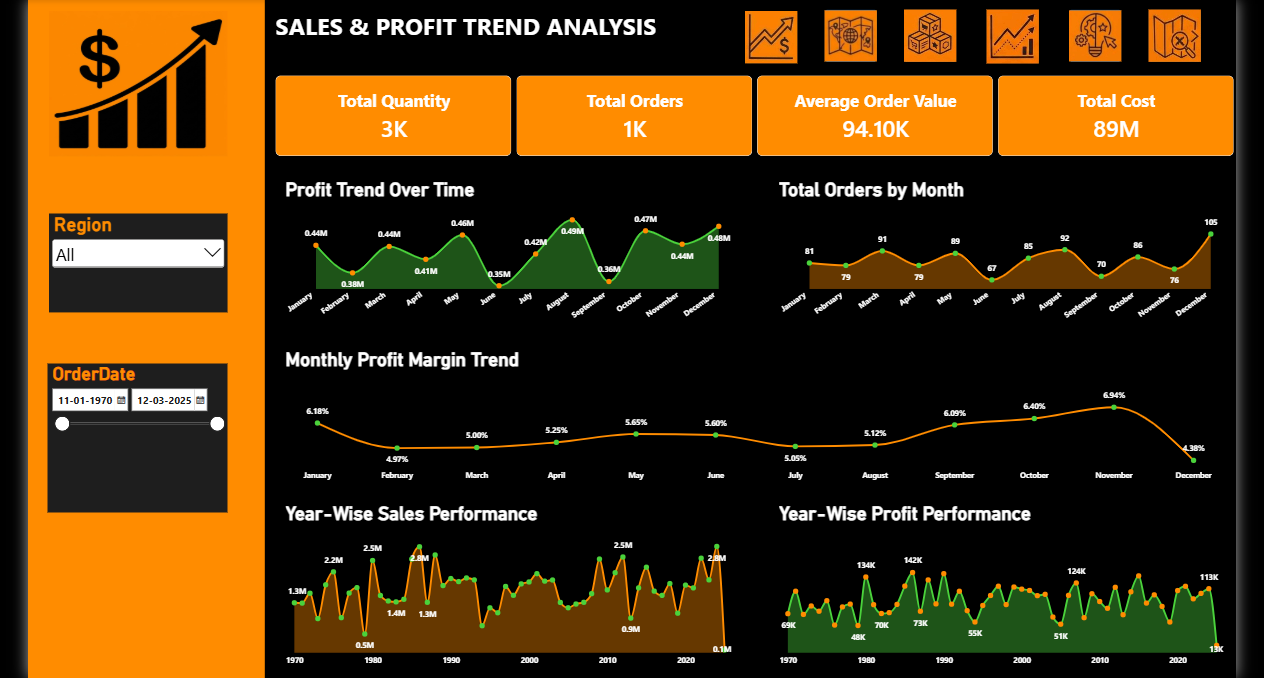

What the dashboard file says about the page in this screenshot:
{"tool":"powerbi","page":{"name":"Sales & Profit Trend Analysis","canvas":[1920,1080],"ordinal":4},"visuals":[{"type":"shape","box":[0,0,377,1080.8],"z":0},{"type":"textbox","box":[393.7,16.7,627.5,107.4],"z":1000},{"type":"cardVisual","fields":{"Data":["Measure  Table.Total Quantity","Measure  Table.Total Orders","Measure  Table.Average Order Value","Measure  Table.Total Cost"]},"box":[393,121.7,1527,128.8],"z":2000},{"type":"lineChart","title":"Profit Trend Over Time","fields":{"Y":["Measure  Table.Total Profit"],"Category":["SalesData_1000Rows_WithIssues_copy.OrderDate.Variation.Date Hierarchy.Month"]},"box":[393.7,272,744.4,267.2],"z":3000},{"type":"lineChart","fields":{"Y":["Measure  Table.Total Orders"],"Category":["SalesData_1000Rows_WithIssues_copy.OrderDate.Variation.Date Hierarchy.Month"]},"box":[1178.6,272,742,267.2],"z":4000},{"type":"lineChart","title":"Monthly Profit Margin Trend","fields":{"Y":["Measure  Table.Profit Margin %"],"Category":["SalesData_1000Rows_WithIssues_copy.OrderDate.Variation.Date Hierarchy.Month"]},"box":[393.7,541.6,1527,245.7],"z":5000},{"type":"lineChart","title":" Year-Wise Sales Performance","fields":{"Category":["SalesData_1000Rows_WithIssues_copy.OrderDate.Variation.Date Hierarchy.Year"],"Y":["Measure  Table.Total sales"]},"box":[393.7,787.4,744.4,293.5],"z":6000},{"type":"lineChart","title":"Year-Wise Profit Performance","fields":{"Category":["SalesData_1000Rows_WithIssues_copy.OrderDate.Variation.Date Hierarchy.Year"],"Y":["Measure  Table.Total Profit"]},"box":[1178.6,787.4,742,293.5],"z":7000},{"type":"slicer","fields":{"Values":["SalesData_1000Rows_WithIssues_copy.Region"]},"box":[33.4,341.2,283.9,157.5],"z":8000},{"type":"slicer","fields":{"Values":["SalesData_1000Rows_WithIssues_copy.OrderDate"]},"box":[31,579.8,286.3,236.2],"z":9000},{"type":"actionButton","box":[1140.5,19.1,83.5,83.5],"z":10000},{"type":"actionButton","box":[1266.9,16.7,83.5,83.5],"z":11000},{"type":"actionButton","box":[1393.4,16.7,83.5,83.5],"z":12000},{"type":"actionButton","box":[1524.6,16.7,83.5,85.9],"z":13000},{"type":"actionButton","box":[1655.8,16.7,83.5,83.5],"z":14000},{"type":"actionButton","box":[1782.3,16.7,83.5,83.5],"z":15000},{"type":"image","box":[33.4,19.1,283.9,231.4],"z":16000}]}

Visuals, with their boxes on the page's 1920x1080 design canvas (x1, y1, x2, y2). These are canvas units, not pixel positions in the 1264x678 screenshot, which may show the page scaled, cropped or inside an application window:
shape: left=0, top=0, right=377, bottom=1081
textbox: left=394, top=17, right=1021, bottom=124
cardVisual - Measure  Table.Total Quantity x Measure  Table.Total Orders: left=393, top=122, right=1920, bottom=250
"Profit Trend Over Time" lineChart: left=394, top=272, right=1138, bottom=539
lineChart - Measure  Table.Total Orders x SalesData_1000Rows_WithIssues_copy.OrderDate.Variation.Date Hierarchy.Month: left=1179, top=272, right=1921, bottom=539
"Monthly Profit Margin Trend" lineChart: left=394, top=542, right=1921, bottom=787
" Year-Wise Sales Performance" lineChart: left=394, top=787, right=1138, bottom=1081
"Year-Wise Profit Performance" lineChart: left=1179, top=787, right=1921, bottom=1081
slicer - SalesData_1000Rows_WithIssues_copy.Region: left=33, top=341, right=317, bottom=499
slicer - SalesData_1000Rows_WithIssues_copy.OrderDate: left=31, top=580, right=317, bottom=816
actionButton: left=1140, top=19, right=1224, bottom=103
actionButton: left=1267, top=17, right=1350, bottom=100
actionButton: left=1393, top=17, right=1477, bottom=100
actionButton: left=1525, top=17, right=1608, bottom=103
actionButton: left=1656, top=17, right=1739, bottom=100
actionButton: left=1782, top=17, right=1866, bottom=100
image: left=33, top=19, right=317, bottom=250
